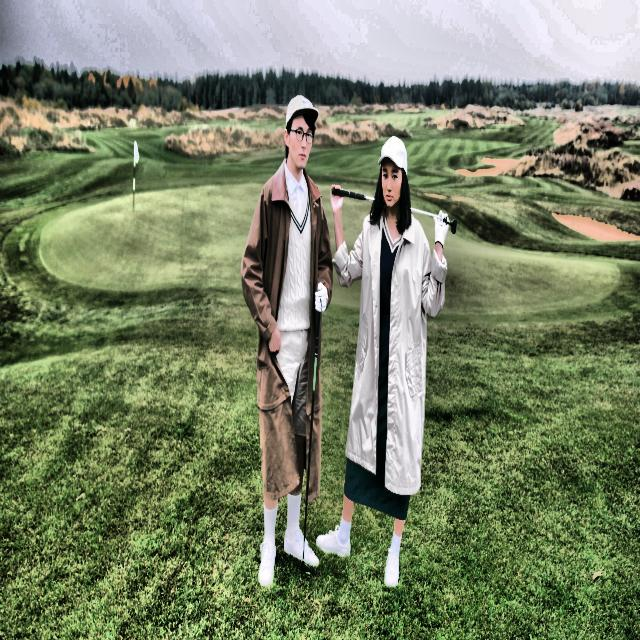gloved: (428, 214, 456, 255), (265, 308, 281, 374), (306, 278, 334, 311)
not-gloved: (328, 178, 346, 224)
